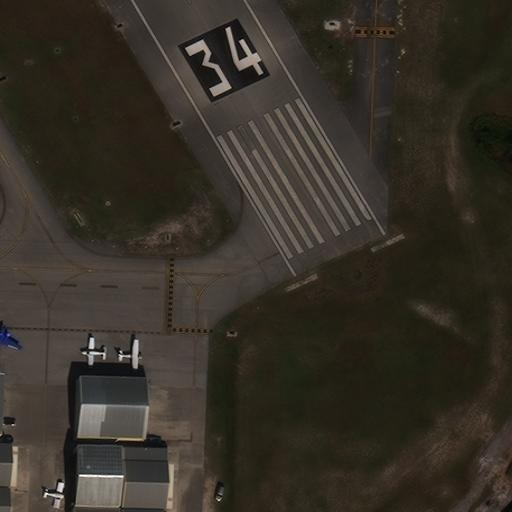Small Civil Transport: (80, 336, 106, 368), (117, 339, 142, 371), (44, 483, 65, 508), (0, 325, 20, 351)
